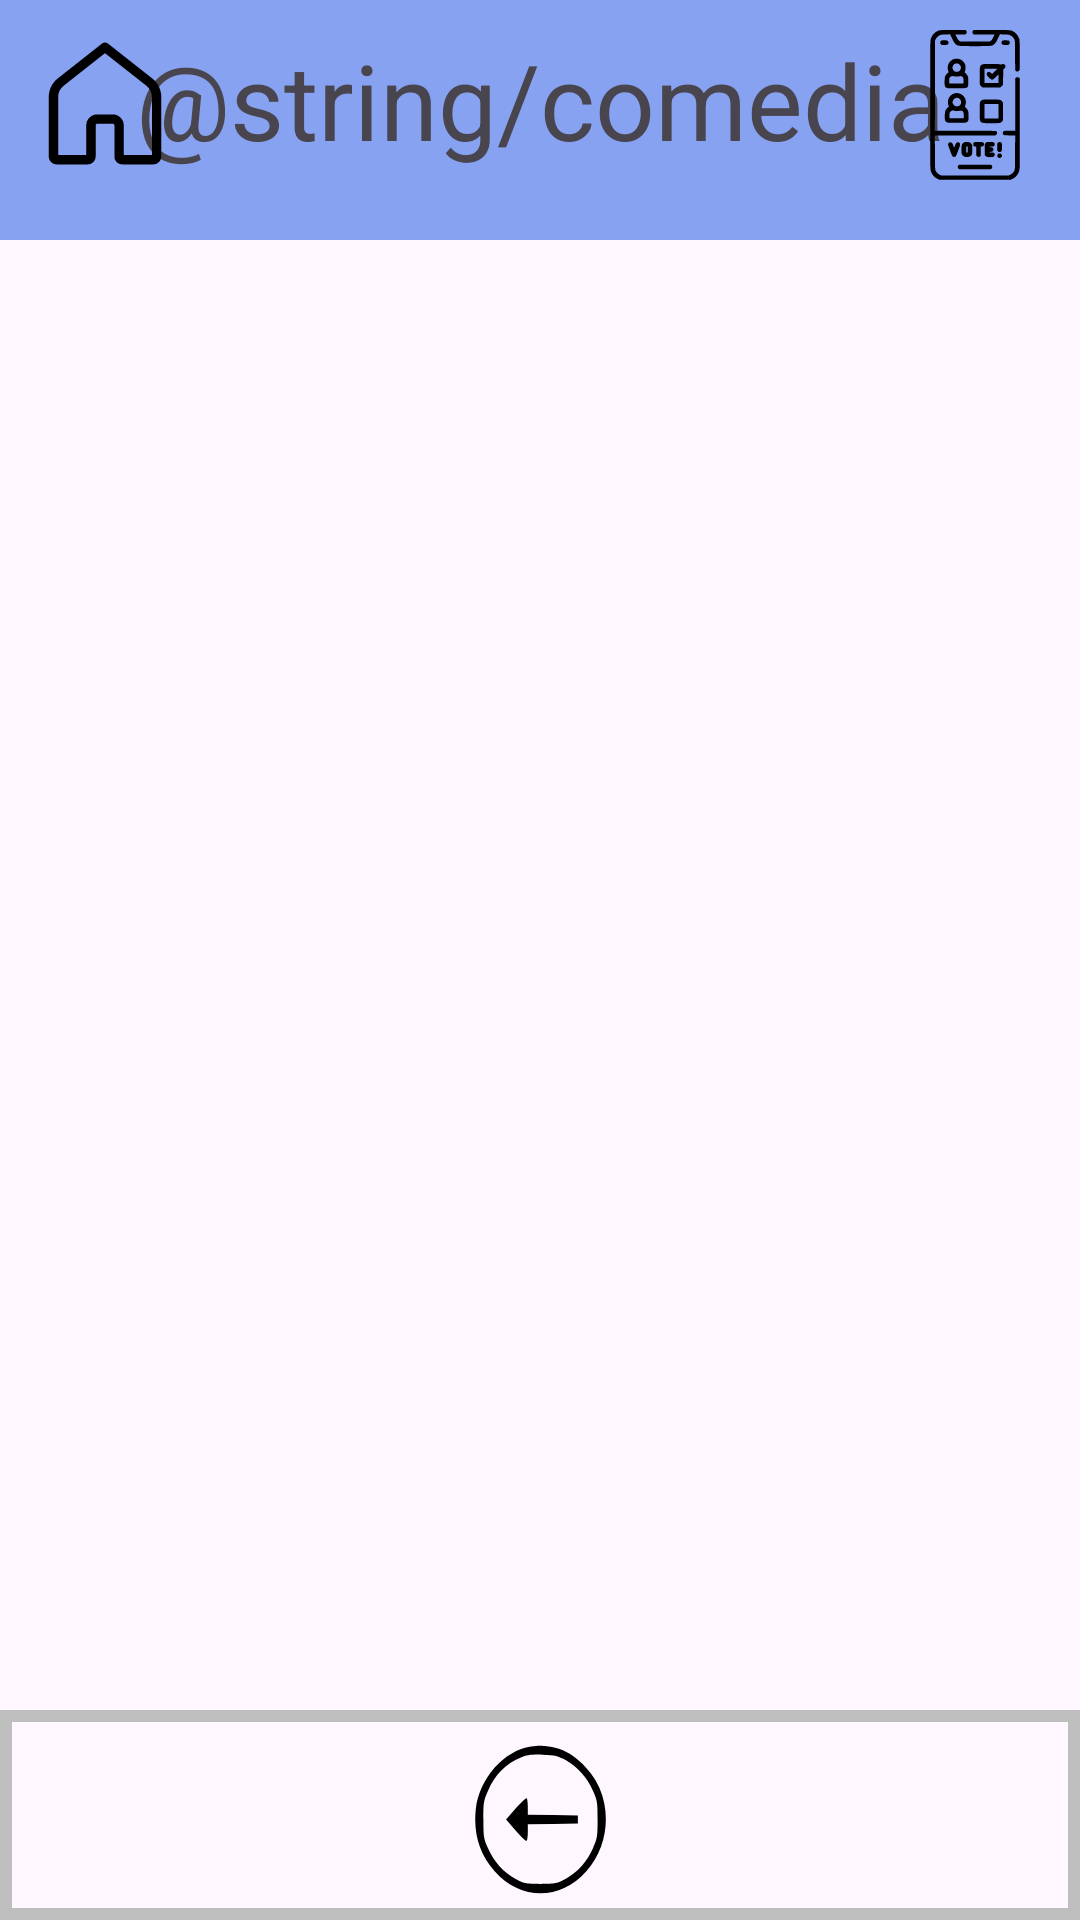

Locate icon controls on the screen. Image size 1080×1920, boxes as [x1,y1,x2,y2].
pantalla principal: [48,42,180,165]
